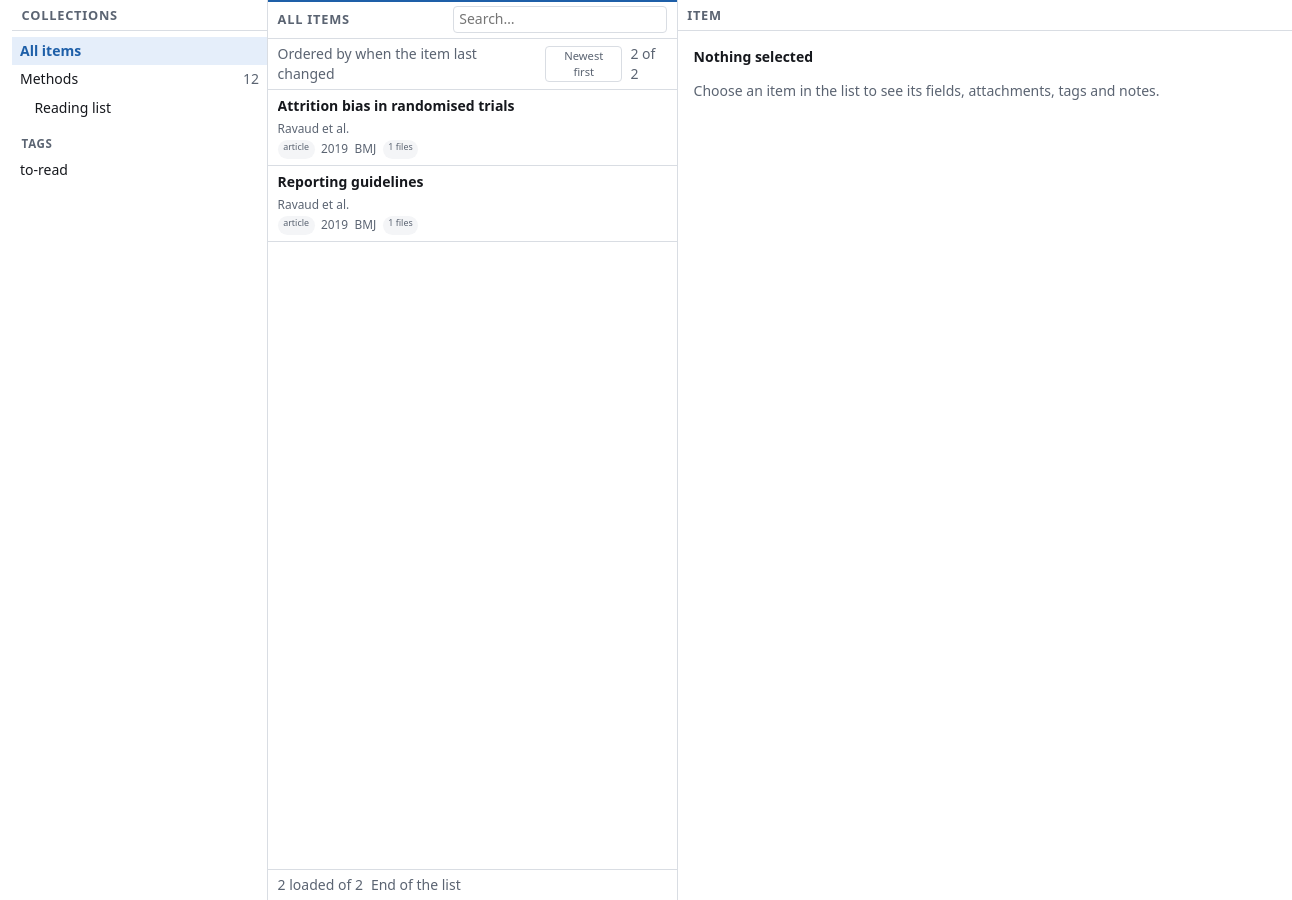
Test: the library view › narrows the item list to the chosen collection
This screenshot has width=1292, height=900.
Click the list item "Methods 12": (140, 80) [12,65,267,94]
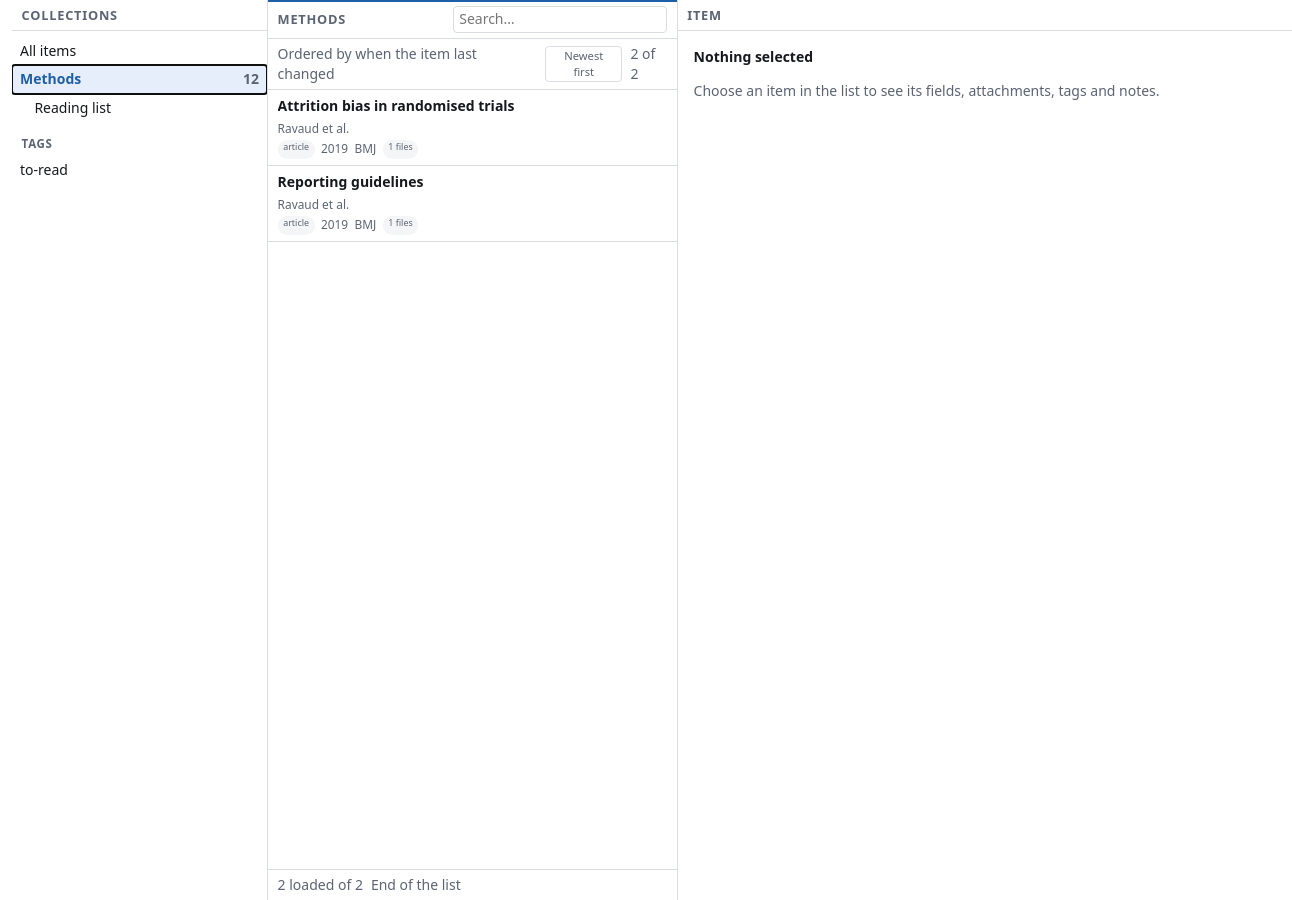
expect the element "Methods" is shown: met, box [268,0,678,899]
